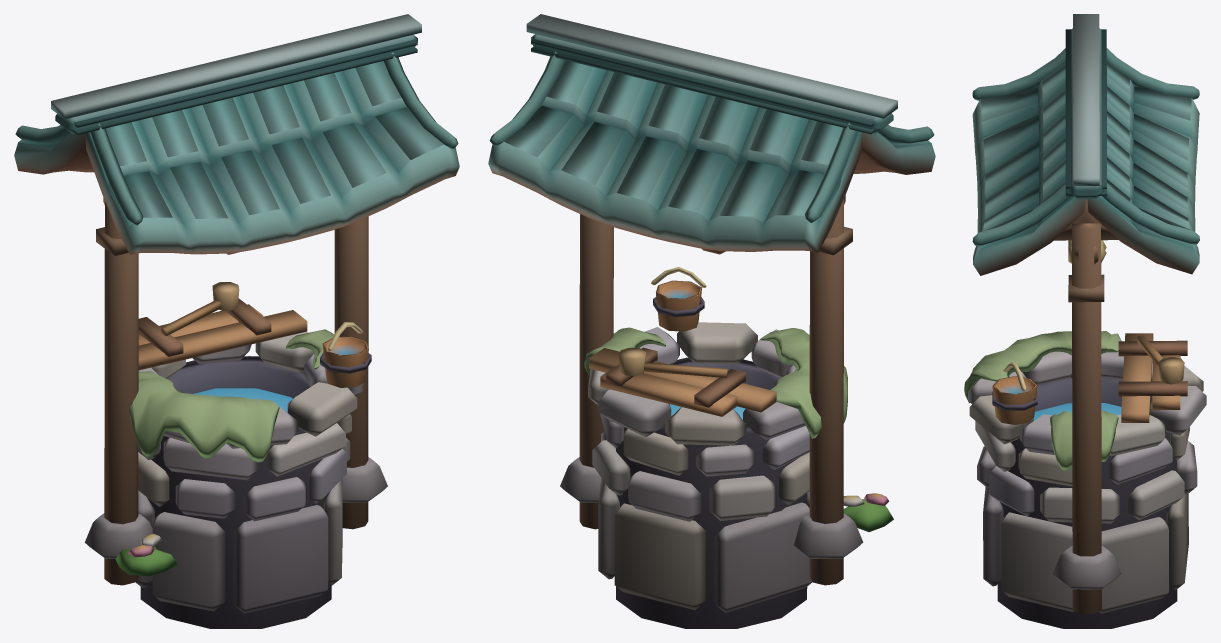
File: well.glb
3 views of the same model, side by side, from view 1: azimuth 30°, elevation 25°; view 2: azimuth 150°, elevation 25°; view 3: azimuth 270°, elevation 25° (orthographic). The views are drawn at different scales.
Parts seen in each view (by area): view 1: well, water; view 2: well; view 3: well, water.
Boxes of the visible parts, x1,y1,x2,y2 form: well: (14, 14, 459, 628); water: (193, 388, 292, 412); well: (488, 14, 935, 628); well: (964, 14, 1206, 628); water: (1033, 403, 1121, 420).
Size of the model in its own units: 1.46 by 2.06 by 0.9134.
